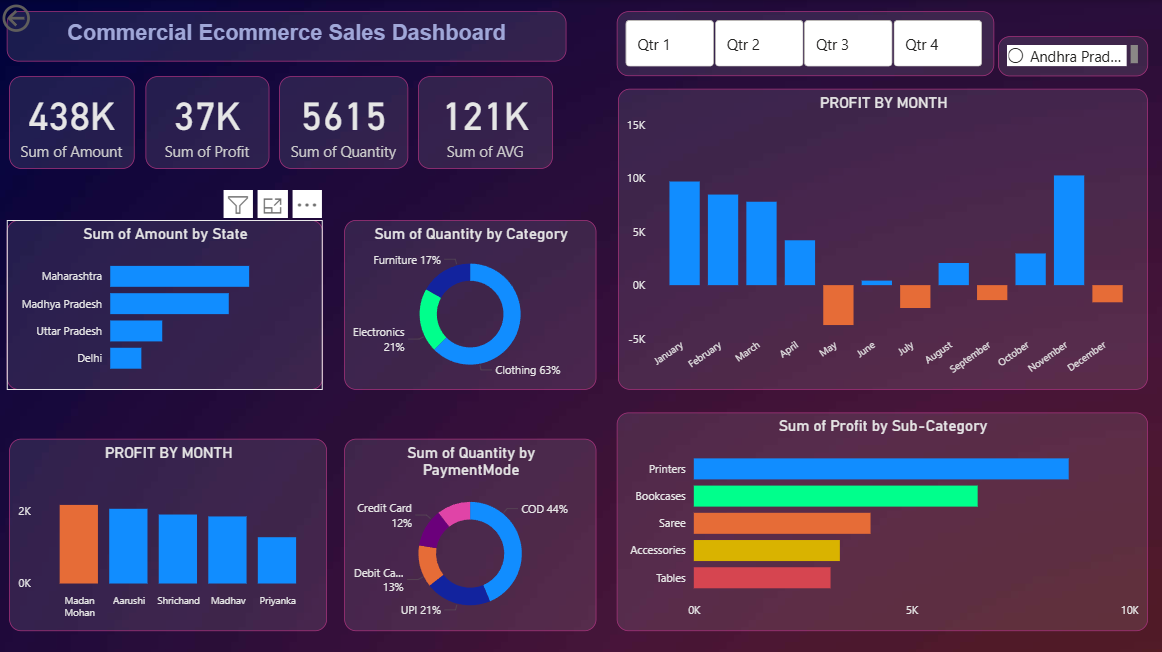

Layout of this report page (visuals, bound fields, positions):
{"tool":"powerbi","page":{"name":"Page 1","canvas":[1280,720],"ordinal":0},"visuals":[{"type":"textbox","box":[9.6,12.3,614.8,54.9],"z":0},{"type":"columnChart","title":"PROFIT BY MONTH","fields":{"Y":["Sum(Details (1).Profit)"],"Category":["Orders (1).Order Date.Variation.Date Hierarchy.Month"]},"box":[680.6,97.4,581.8,330.7],"z":1000},{"type":"barChart","fields":{"Category":["Details (1).Sub-Category"],"Y":["Sum(Details (1).Profit)"]},"box":[679.2,452.8,583.2,240.1],"z":2000},{"type":"donutChart","fields":{"Category":["Details (1).Category"],"Y":["Sum(Details (1).Quantity)"]},"box":[380.1,241.5,277.2,186.6],"z":3000},{"type":"donutChart","fields":{"Y":["Sum(Details (1).Quantity)"],"Category":["Details (1).PaymentMode"]},"box":[380.1,481.6,277.2,211.3],"z":4000},{"type":"card","fields":{"Values":["Sum(Details (1).Amount)"]},"box":[12.3,83.7,137.2,101.5],"z":5000},{"type":"card","fields":{"Values":["Sum(Details (1).Profit)"]},"box":[161.9,83.7,135.8,101.5],"z":6000},{"type":"card","fields":{"Values":["Sum(Details (1).Quantity)"]},"box":[308.7,83.7,141.3,101.5],"z":7000},{"type":"card","fields":{"Values":["Sum(Details (1).AVG)"]},"box":[461.1,83.7,148.2,101.5],"z":8000},{"type":"barChart","fields":{"Category":["Orders (1).State"],"Y":["Sum(Details (1).Amount)"]},"box":[9.6,241.5,347.2,186.6],"z":9000},{"type":"columnChart","title":"PROFIT BY MONTH","fields":{"Category":["Orders (1).CustomerName"],"Y":["Sum(Details (1).Profit)"]},"box":[12.3,481.6,348.5,211.3],"z":10000},{"type":"advancedSlicerVisual","fields":{"Values":["Orders (1).Order Date.Variation.Date Hierarchy.Quarter"]},"box":[679.2,12.3,414.4,71.4],"z":11000},{"type":"listSlicer","fields":{"Values":["Orders (1).State"]},"box":[1097.8,39.8,164.7,43.9],"z":12000},{"type":"actionButton","box":[0,0,100,40],"z":13000}]}

Visuals, with their boxes in screenshot pixels (x1, y1, x2, y2), scaled from the page's 1280x720 canvas onto the 1162x652 screenshot:
textbox: bbox=[9, 11, 567, 61]
"PROFIT BY MONTH" columnChart: bbox=[618, 88, 1146, 388]
barChart - Details (1).Sub-Category x Sum(Details (1).Profit): bbox=[617, 410, 1146, 627]
donutChart - Details (1).Category x Sum(Details (1).Quantity): bbox=[345, 219, 597, 388]
donutChart - Sum(Details (1).Quantity) x Details (1).PaymentMode: bbox=[345, 436, 597, 627]
card - Sum(Details (1).Amount): bbox=[11, 76, 136, 168]
card - Sum(Details (1).Profit): bbox=[147, 76, 270, 168]
card - Sum(Details (1).Quantity): bbox=[280, 76, 409, 168]
card - Sum(Details (1).AVG): bbox=[419, 76, 553, 168]
barChart - Orders (1).State x Sum(Details (1).Amount): bbox=[9, 219, 324, 388]
"PROFIT BY MONTH" columnChart: bbox=[11, 436, 328, 627]
advancedSlicerVisual - Orders (1).Order Date.Variation.Date Hierarchy.Quarter: bbox=[617, 11, 993, 76]
listSlicer - Orders (1).State: bbox=[997, 36, 1146, 76]
actionButton: bbox=[0, 0, 91, 36]
